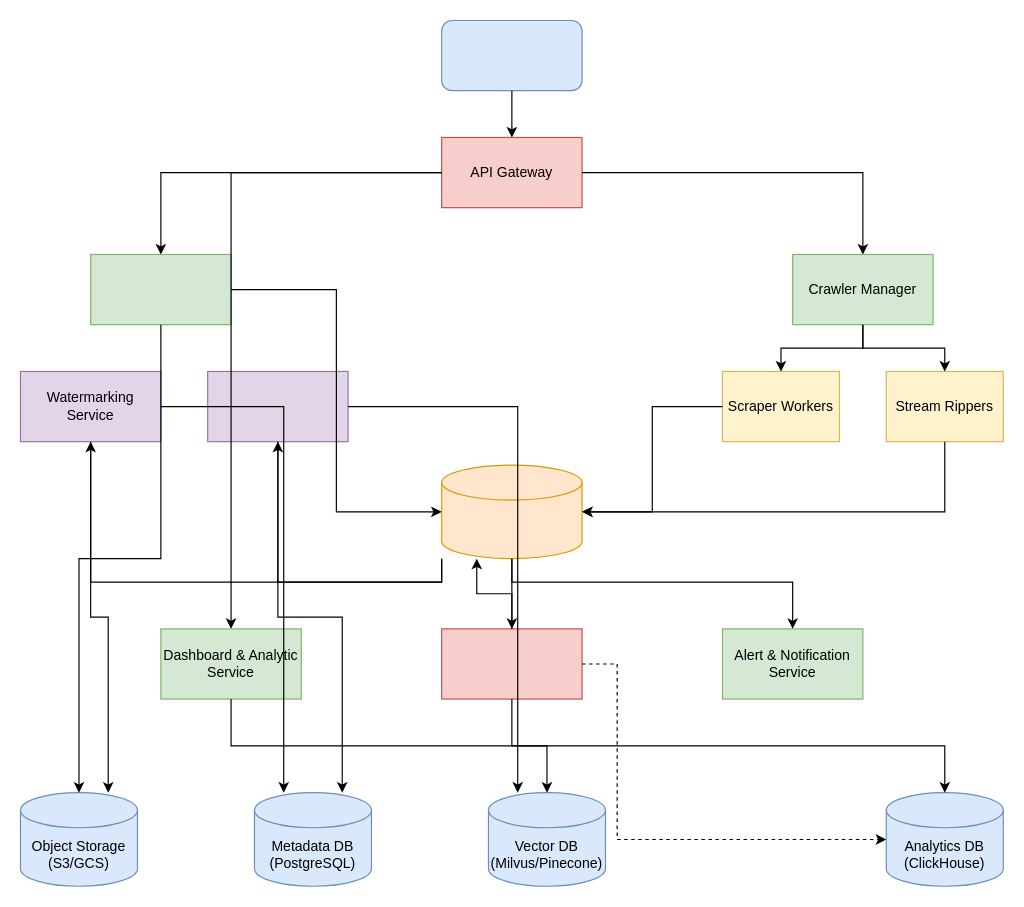
This 1024x907 diagram has some shape labels left out. Here are the shapes that lost their labels. From the top down, the centre of each, then its label:
At pixel 511 55: "Client Apps (Web / Mobile)".
At pixel 160 289: "Media Ingestion Service".
At pixel 277 406: "Fingerprinting Service".
At pixel 511 511: "Event Bus (Kafka)".
At pixel 511 663: "Detection Engine (Stream Processing)".
